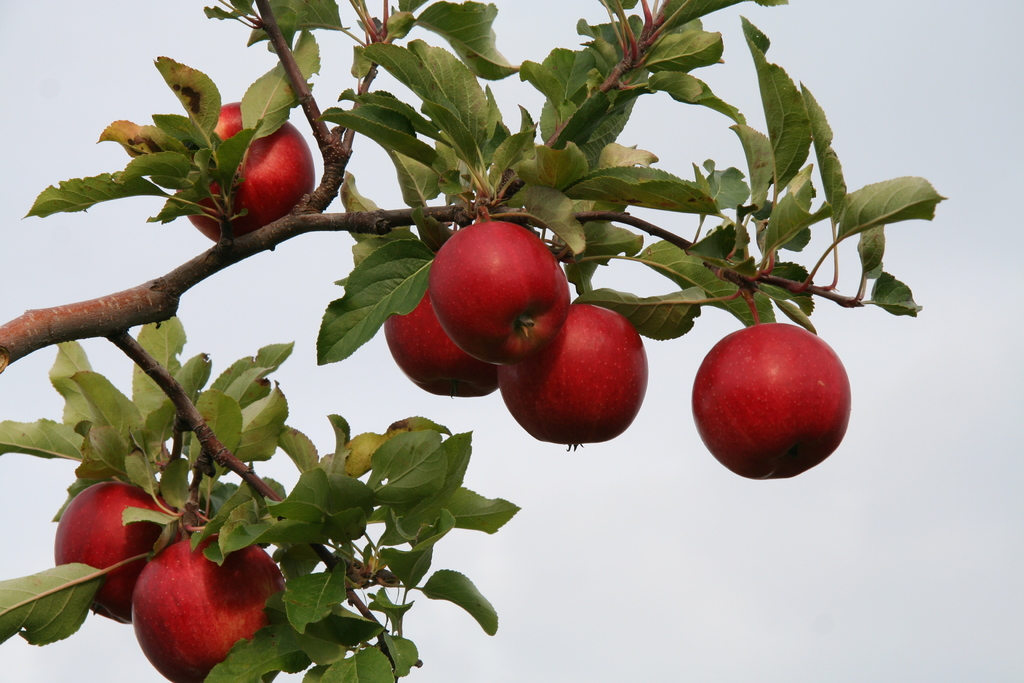Apple: (687, 313, 856, 477), (492, 296, 650, 449), (131, 531, 289, 682), (174, 95, 313, 246), (430, 217, 570, 362), (53, 479, 190, 625), (380, 285, 498, 395)
